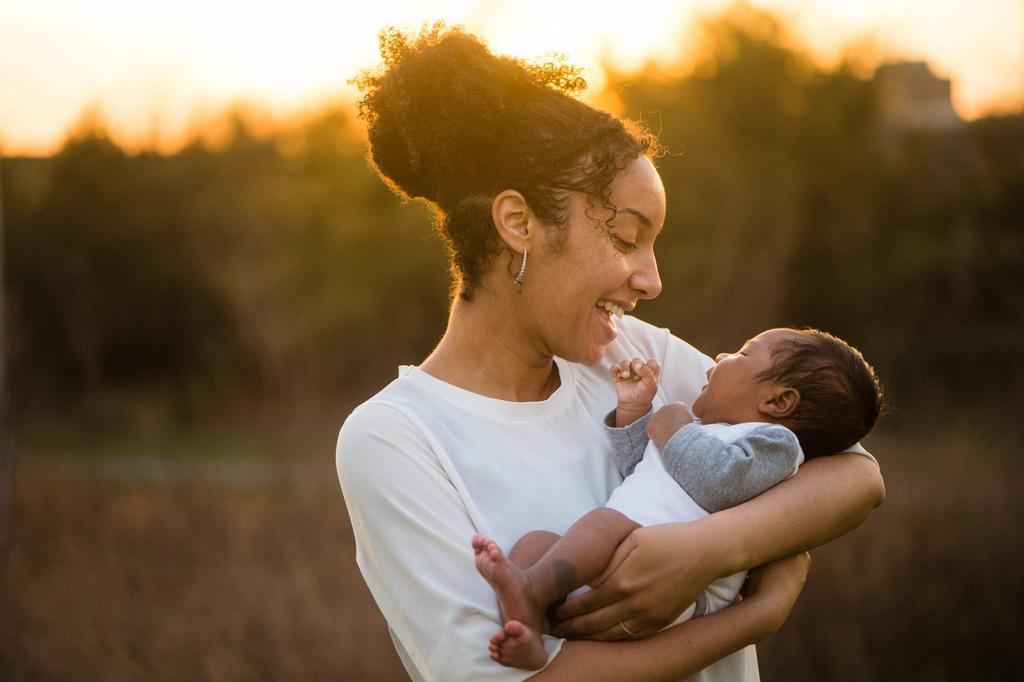child: (444, 313, 936, 646)
